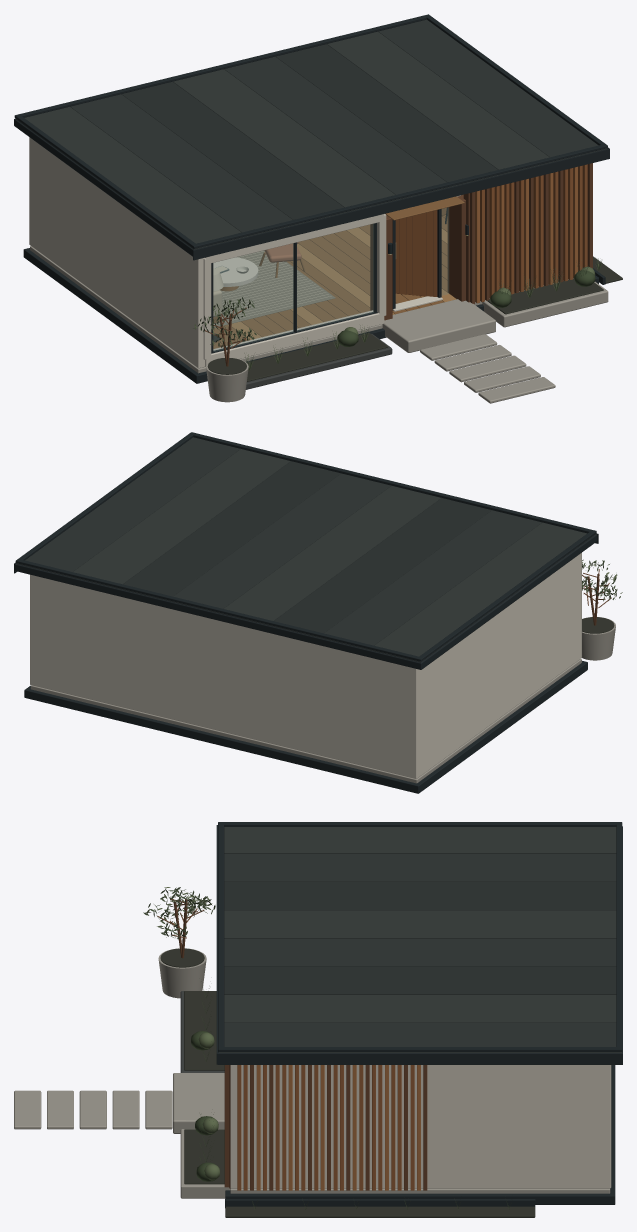
The model's file is retrace-home.glb.
3 views of the same model, one above another, from view 1: azimuth 30°, elevation 25°; view 2: azimuth 150°, elevation 25°; view 3: azimuth 270°, elevation 25° (orthographic). The views are drawn at different scales.
Visible parts, largest first — view 1: retrace_roof_weathered_charcoal_membrane, retrace_roof_membrane_subtle_wear, architecture_mineral_plaster, retrace_roof_membrane_subtle_shade, cutaway_front_tinted_architectural_glass, retrace_roof_charcoal_powdercoat, landscape_honed_limestone, cutaway_front_cedar_honey, cutaway_front_cedar_dark, architecture_warm_oak, cutaway_front_mineral_plaster, landscape_garden_soil (+12 smaller); view 2: architecture_mineral_plaster, retrace_roof_weathered_charcoal_membrane, retrace_roof_membrane_subtle_wear, retrace_roof_membrane_subtle_shade, retrace_roof_charcoal_powdercoat, architecture_charcoal_powdercoat, architecture_honed_limestone, landscape_honed_limestone; view 3: cutaway_right_mineral_plaster, retrace_roof_membrane_subtle_wear, retrace_roof_weathered_charcoal_membrane, retrace_roof_membrane_subtle_shade, retrace_roof_charcoal_powdercoat, landscape_honed_limestone, cutaway_right_cedar_honey, landscape_garden_soil, cutaway_right_cedar_dark, cutaway_right_cedar_light, architecture_charcoal_powdercoat, landscape_charcoal_powdercoat (+5 smaller).
Part boxes in pixels (bbox=[...]): retrace_roof_weathered_charcoal_membrane: bbox=[15, 19, 607, 249]; retrace_roof_membrane_subtle_wear: bbox=[24, 31, 549, 243]; architecture_mineral_plaster: bbox=[29, 137, 205, 368]; retrace_roof_membrane_subtle_shade: bbox=[70, 31, 549, 232]; cutaway_front_tinted_architectural_glass: bbox=[213, 207, 448, 351]; retrace_roof_charcoal_powdercoat: bbox=[14, 14, 609, 260]; landscape_honed_limestone: bbox=[206, 279, 608, 403]; cutaway_front_cedar_honey: bbox=[395, 164, 587, 302]; cutaway_front_cedar_dark: bbox=[370, 163, 592, 320]; architecture_warm_oak: bbox=[213, 215, 456, 348]; cutaway_front_mineral_plaster: bbox=[203, 195, 460, 366]; landscape_garden_soil: bbox=[207, 256, 622, 381]; architecture_mineral_plaster: bbox=[30, 553, 581, 778]; retrace_roof_weathered_charcoal_membrane: bbox=[16, 437, 595, 662]; retrace_roof_membrane_subtle_wear: bbox=[73, 449, 586, 656]; retrace_roof_membrane_subtle_shade: bbox=[72, 448, 542, 645]; retrace_roof_charcoal_powdercoat: bbox=[14, 432, 598, 669]; architecture_charcoal_powdercoat: bbox=[24, 661, 587, 793]; architecture_honed_limestone: bbox=[30, 659, 581, 783]; landscape_honed_limestone: bbox=[582, 617, 615, 660]; cutaway_right_mineral_plaster: bbox=[230, 1065, 609, 1188]; retrace_roof_membrane_subtle_wear: bbox=[224, 827, 616, 1022]; retrace_roof_weathered_charcoal_membrane: bbox=[218, 854, 621, 1052]; retrace_roof_membrane_subtle_shade: bbox=[224, 853, 616, 1022]; retrace_roof_charcoal_powdercoat: bbox=[216, 822, 622, 1064]; landscape_honed_limestone: bbox=[14, 948, 230, 1198]; cutaway_right_cedar_honey: bbox=[237, 1065, 414, 1190]; landscape_garden_soil: bbox=[160, 948, 535, 1217]; cutaway_right_cedar_dark: bbox=[250, 1065, 427, 1190]; cutaway_right_cedar_light: bbox=[256, 1065, 420, 1190]; architecture_charcoal_powdercoat: bbox=[225, 1065, 615, 1204]; landscape_charcoal_powdercoat: bbox=[225, 1199, 535, 1207].
Bounding box in the file's own units: 11.19 × 3.42 × 11.87.
